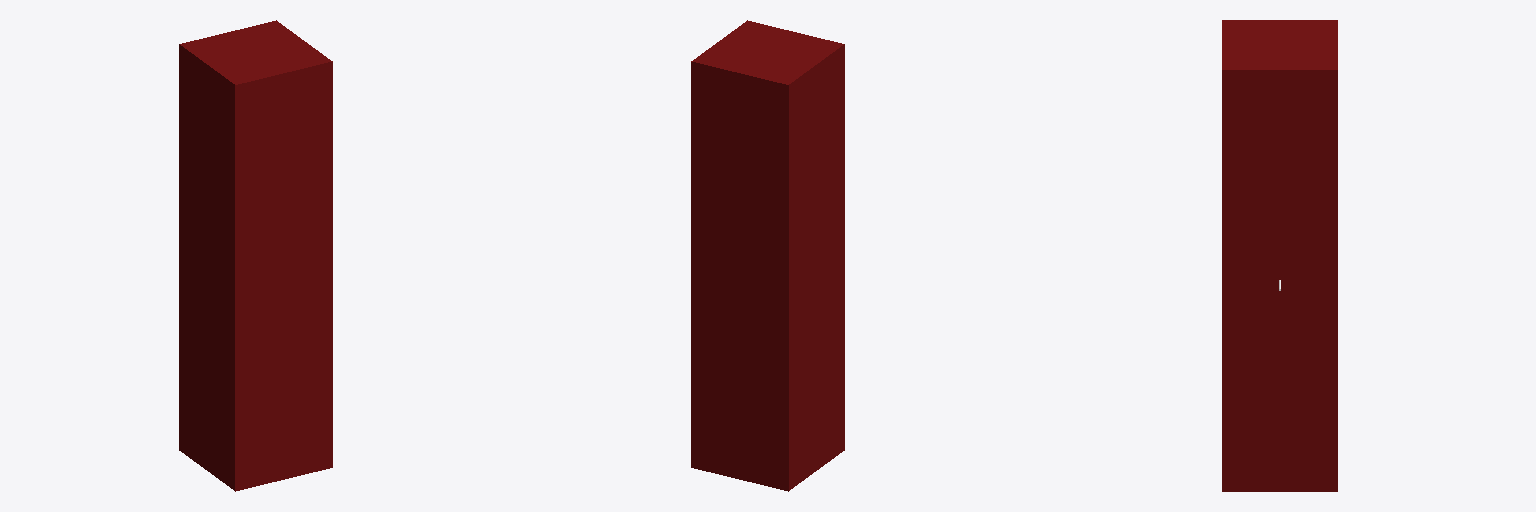
robot.urdf — valve:
<?xml version="1.0"?>
<robot name="valve">
  <link name="valve_base_link">
    <visual>
      <geometry>
        <box size="0.5 0.5 2.0"/>
      </geometry>
      <material name="redish">
	<color rgba="0.5 0.1 0.1 0.5"/>
      </material>
    </visual>
    <collision>
      <geometry>
        <box size="0.5 .5 2.0"/>
      </geometry>
    </collision>
    <inertial>
      <origin xyz="0 0 0"/>
      <mass value="10"/>
      <inertia ixx="1.0" ixy="0.0" ixz="0.0" iyy="1.0" iyz="0.0" izz="1.0"/>
    </inertial>
  </link>

  <link name="handle">
    <visual>
      <geometry>
	<mesh filename="package://wpi_drc_sim/meshes/valve_models/logitech_driving_force_pro_wheel.dae" scale="0.05 0.05 0.05"/>
      </geometry>
    </visual>
    <collision>
      <geometry>
        <mesh filename="package://wpi_drc_sim/meshes/valve_models/logitech_driving_force_pro_wheel.stl" scale="0.05 0.05 0.05"/>
      </geometry>
    </collision>
    <inertial>
      <origin xyz="0 0 0"/>
      <mass value="0.1"/>
      <inertia ixx="1.0" ixy="0.0" ixz="0.0" iyy="1.0" iyz="0.0" izz="1.0"/>
    </inertial>
  </link>
  
  <link name="rod">
    <visual>
      <geometry>
	<cylinder length="0.1" radius="0.005"/>
      </geometry>
      <origin rpy="0 1.57075 0" xyz="0 0 0"/>
      <material name="whiteish">
	<color rgba="1.0 1.0 1.0 1.0"/>
      </material>
    </visual>
    <collision>
      <geometry>
	<cylinder length="0.1" radius="0.005"/>
      </geometry>
      <origin rpy="0 1.57075 0" xyz="0 0 0"/>
    </collision>
    <inertial>
      <origin xyz="0 0 0"/>
      <mass value="0.1"/>
      <inertia ixx="1.0" ixy="0.0" ixz="0.0" iyy="1.0" iyz="0.0" izz="1.0"/>
    </inertial>
  </link>

  <joint name="body_to_rod" type="fixed">
    <parent link="valve_base_link"/>
    <child link="rod"/>
    <origin xyz="0.3 0.0 0.0"/>
  </joint>

  <joint name="rod_to_handle" type="continuous">
    <parent link="rod"/>
    <child link="handle"/>
    <axis xyz="1 0 0"/>
    <origin xyz="0.05 0 0"/>
  </joint>

  <!--gazebo>
    <turnGravityOff>true</turnGravityOff>
    <static>true</static>
  </gazebo-->

</robot>

--- Render facts (derived) ---
3 views of the same robot in one strip: view 1: azimuth 30°, elevation 25°; view 2: azimuth 150°, elevation 25°; view 3: azimuth 270°, elevation 25° (orthographic).
Robot: valve — 3 links, 2 joints (1 continuous, 1 fixed); root link valve_base_link; default pose: all joints at 0.
Links seen in each view (by area): view 1: valve_base_link; view 2: valve_base_link; view 3: valve_base_link.
Link boxes in pixels (<box>): valve_base_link: <box>179,20,332,491</box>; valve_base_link: <box>691,20,844,491</box>; valve_base_link: <box>1222,20,1337,491</box>.
Bounding box of the posed robot: 0.6 × 0.5 × 2 m (x, y, z).
Meshes: 1 distinct files referenced, 0 mesh visuals loaded (none loaded); not drawn: 1 (reference not matched to a file when rendering).